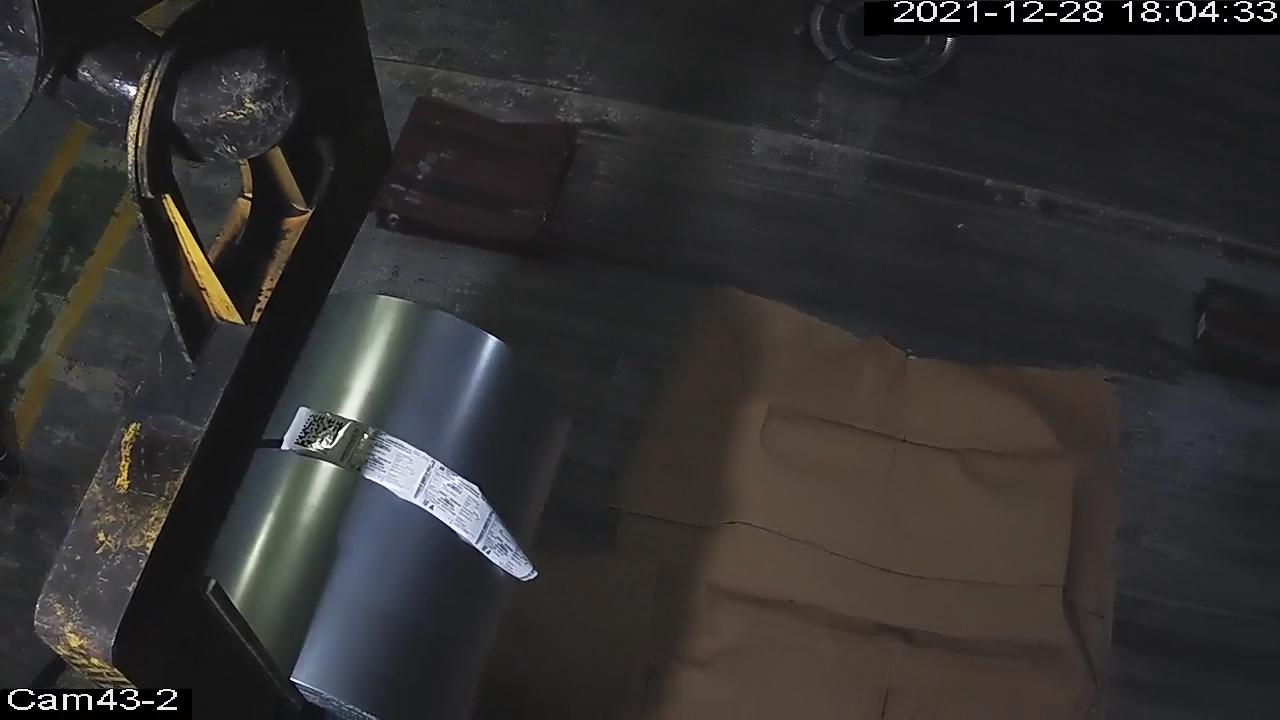data matrix: (292, 409, 348, 459)
